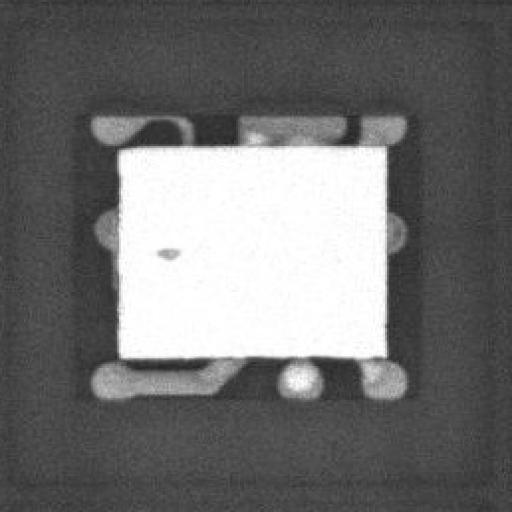DIE_INK: (146, 254, 171, 270)
